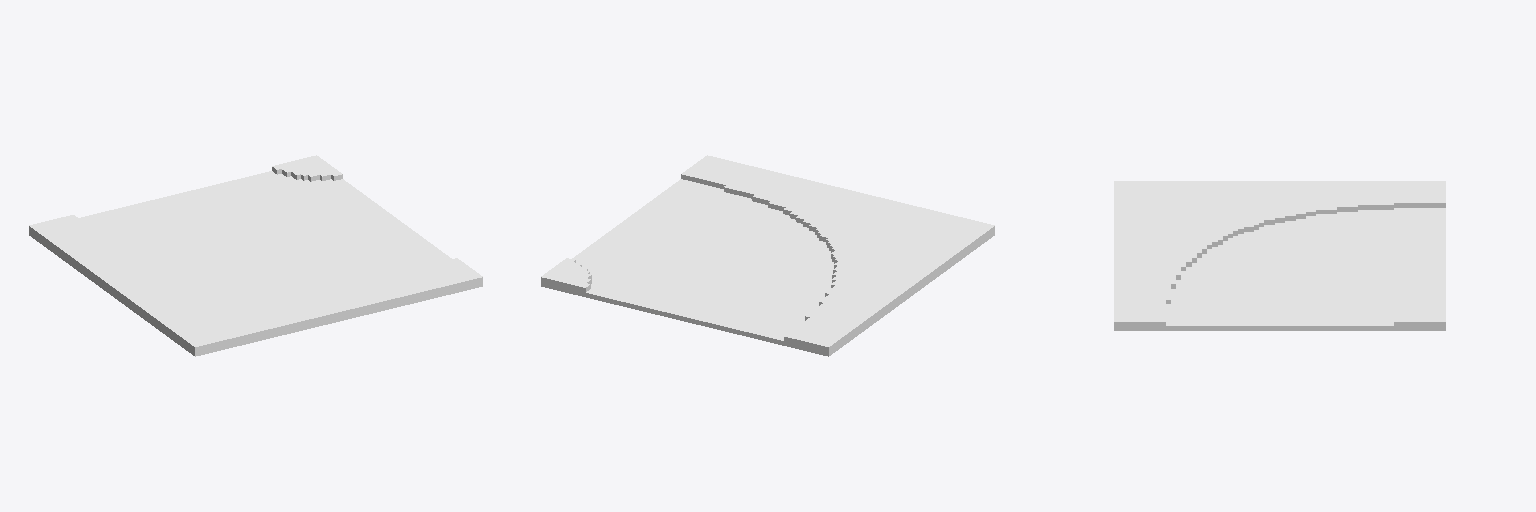
The model's file is RoadTurn180.obj.
3 views of the same model, side by side, from view 1: azimuth 30°, elevation 25°; view 2: azimuth 150°, elevation 25°; view 3: azimuth 270°, elevation 25° (orthographic).
Parts seen in each view (by area): view 1: object 1; view 2: object 1; view 3: object 1.
Boxes of the visible parts, box(x1,y1,x2,y2) form: object 1: box(29, 155, 482, 356); object 1: box(541, 155, 994, 356); object 1: box(1114, 181, 1445, 330).
Size of the model in its own units: 6.4 by 0.2 by 6.4.